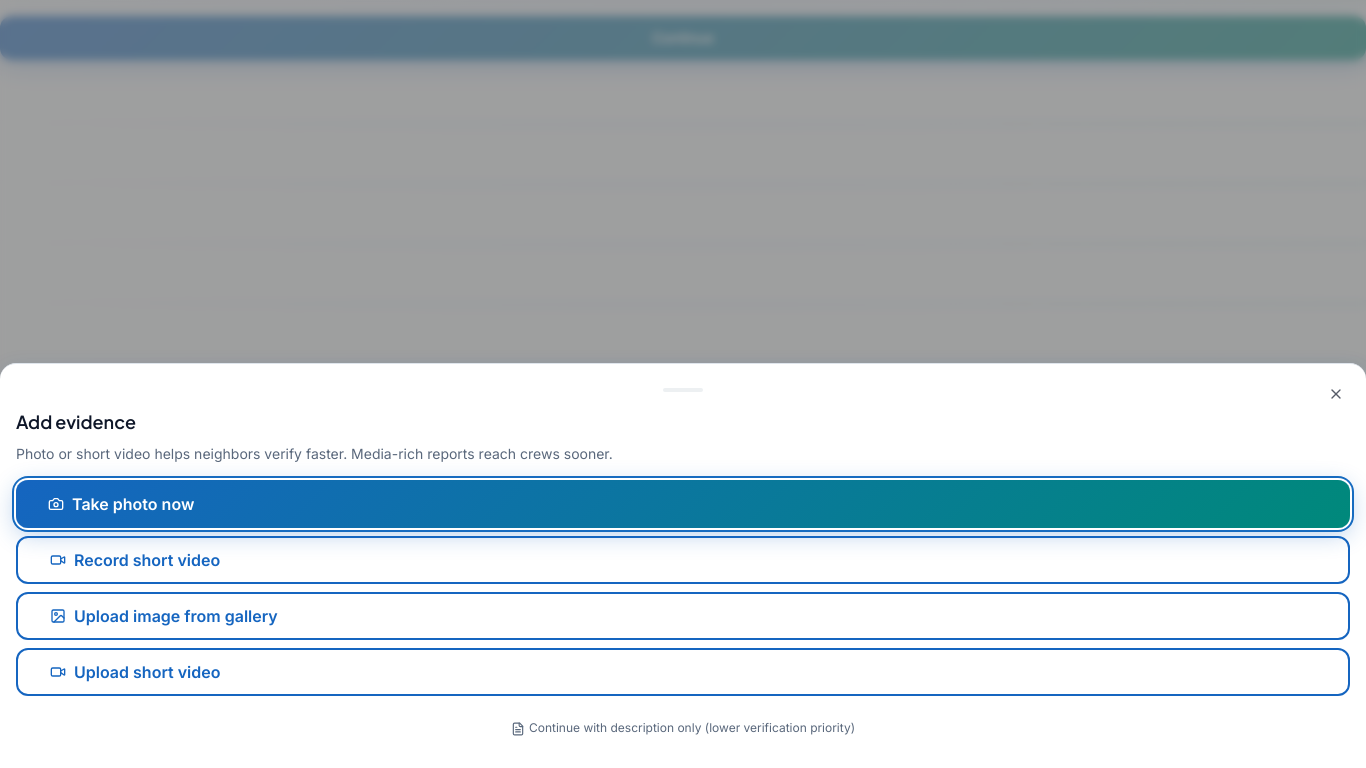
ReportEvidenceStep › C44: denied camera permission
Click the button with test id "report-camera-capture".
click(133, 504)  # box [16,480,1350,528]
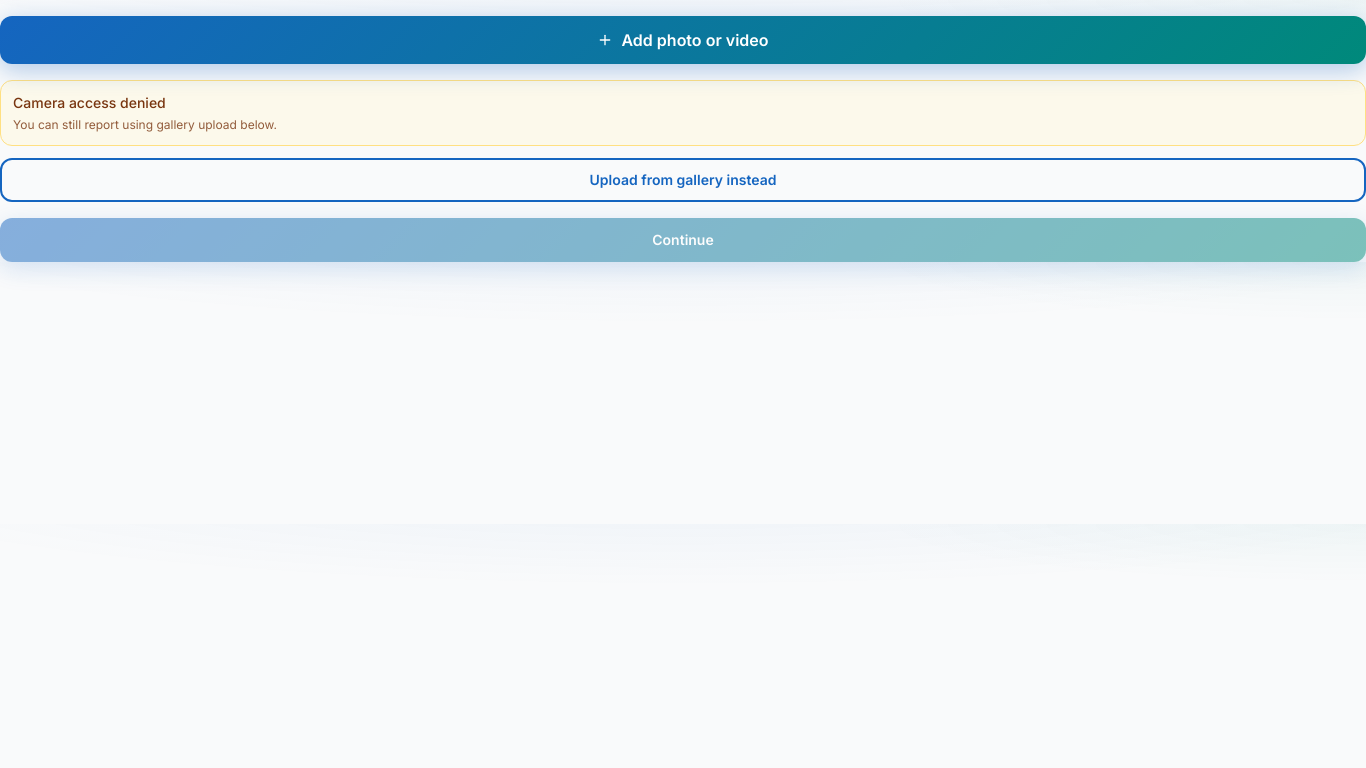
Expected: the message "Camera access denied You can still report using gallery upload below." is shown, [0,80,1365,146]
Expected: the text "You can still report using gallery upload below." is shown, [13,117,277,132]
